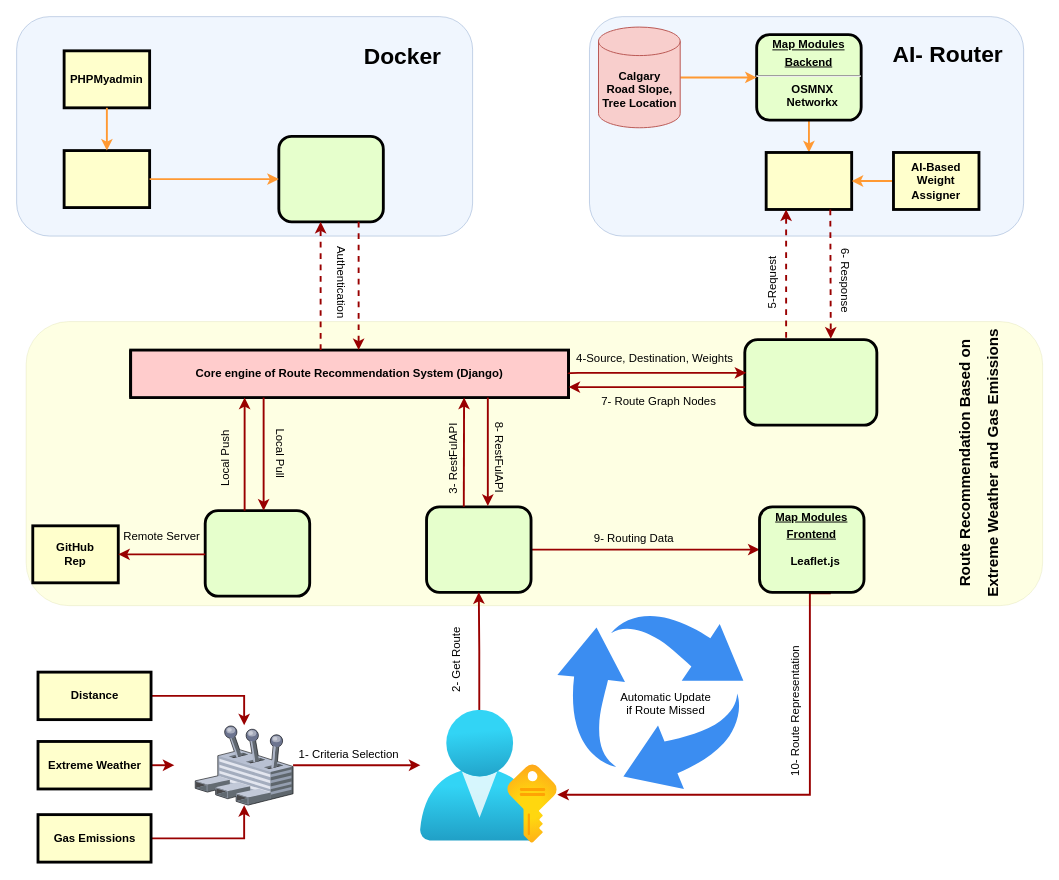
This 1059x880 diagram has some shape labels left out. The centre of each missing label's shape, as x and y in pixels:
"AI RRS AI Route Recommendation System" belongs at point 810,382.
"Database Data Tables" belongs at point 330,178.
"Dijkstra" belongs at point 808,180.
"Frontend React.js Material.UI" belongs at point 478,549.
"Git Version Control" belongs at point 257,553.
"MySQL" belongs at point 106,179.
